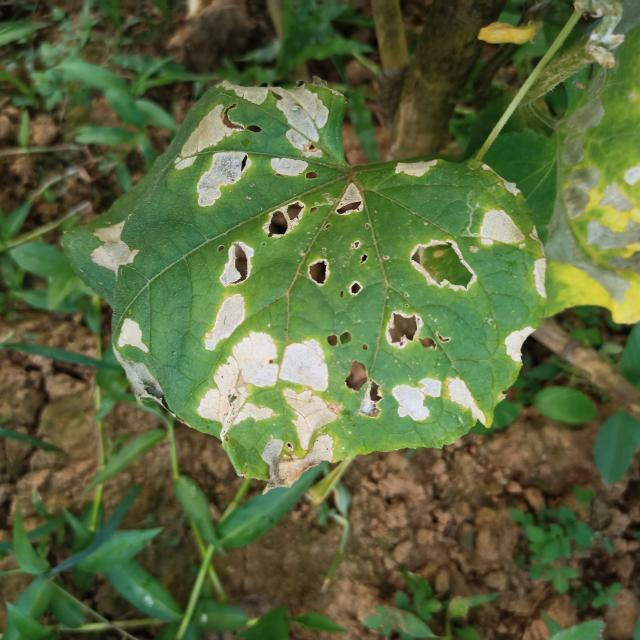disease_cucumber: (82, 79, 536, 439)
